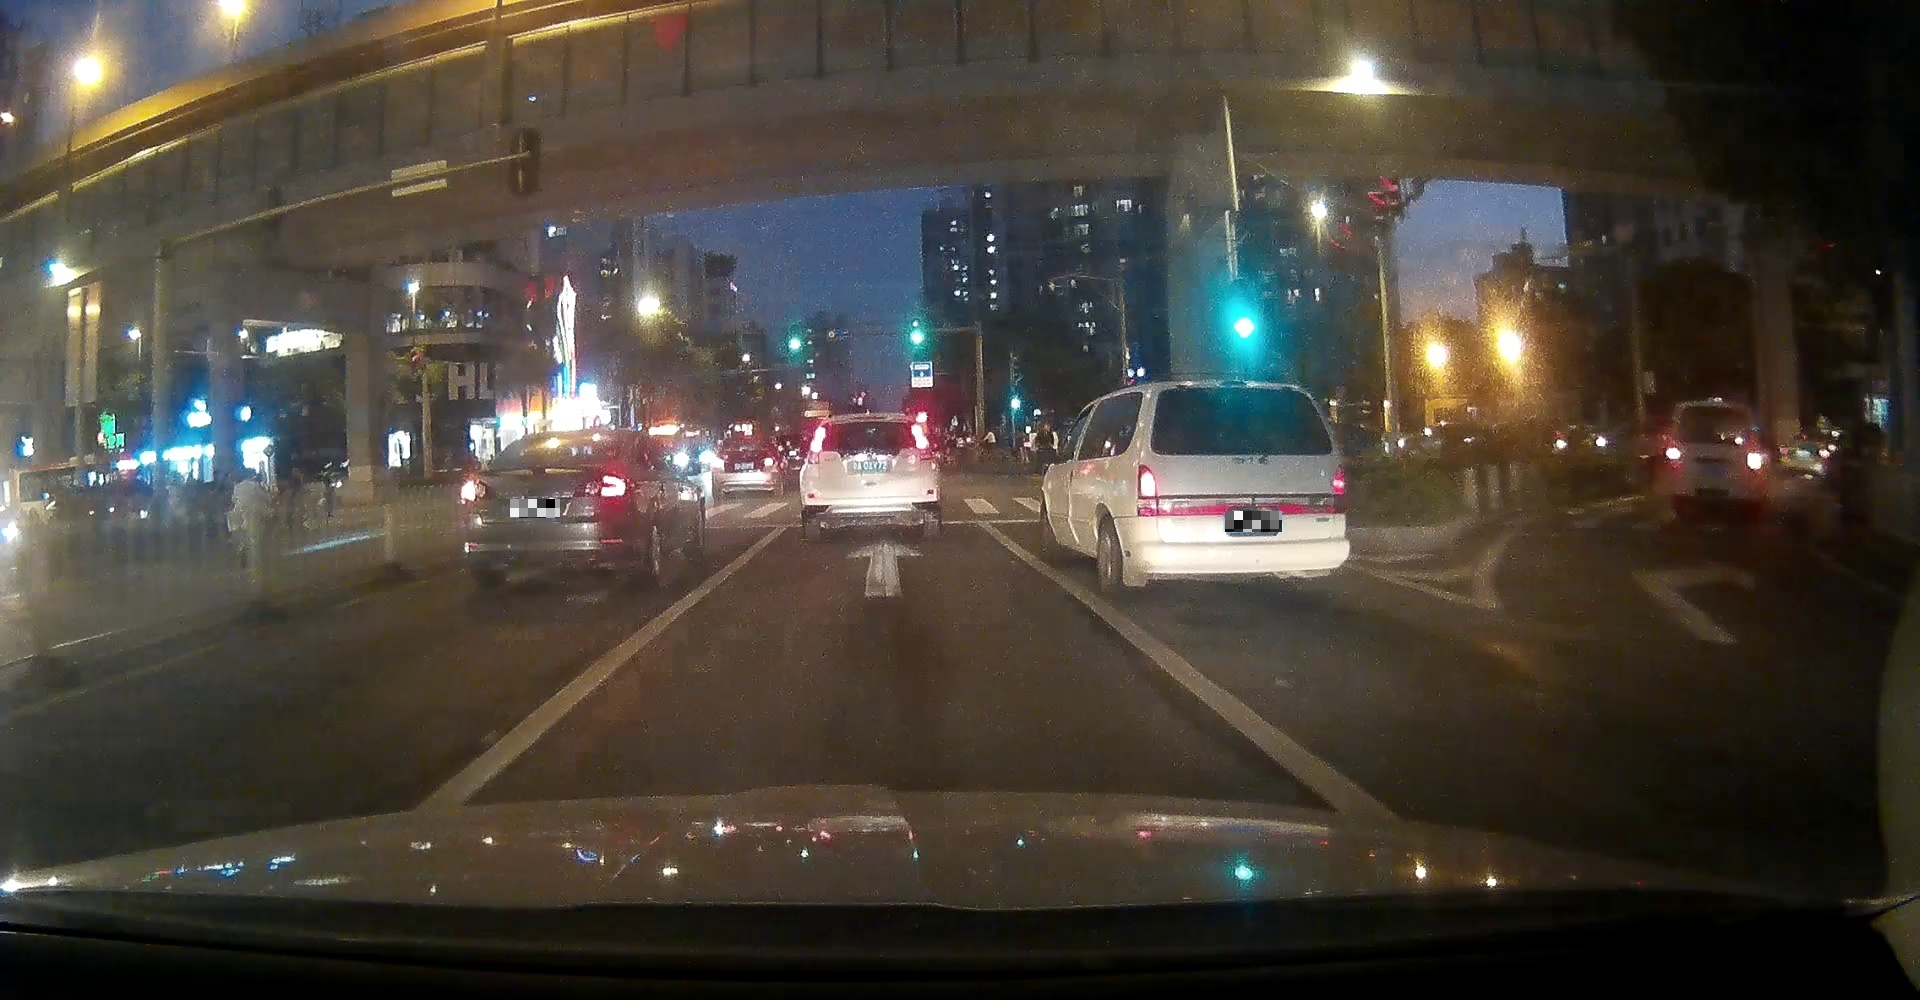L_light: (1138, 464, 1157, 516), (460, 481, 486, 503), (806, 451, 819, 464), (711, 458, 724, 471)
R_light: (1331, 464, 1346, 513), (599, 475, 629, 496), (919, 449, 935, 461), (759, 457, 775, 467)
T_light: (1230, 387, 1250, 393), (564, 438, 579, 443), (742, 439, 753, 445), (866, 421, 879, 426)
night-no: (1134, 379, 1350, 594), (460, 428, 637, 590), (799, 412, 940, 538), (711, 437, 778, 499)
plate_1: (510, 499, 560, 518)
plate_2: (1225, 511, 1283, 532)
